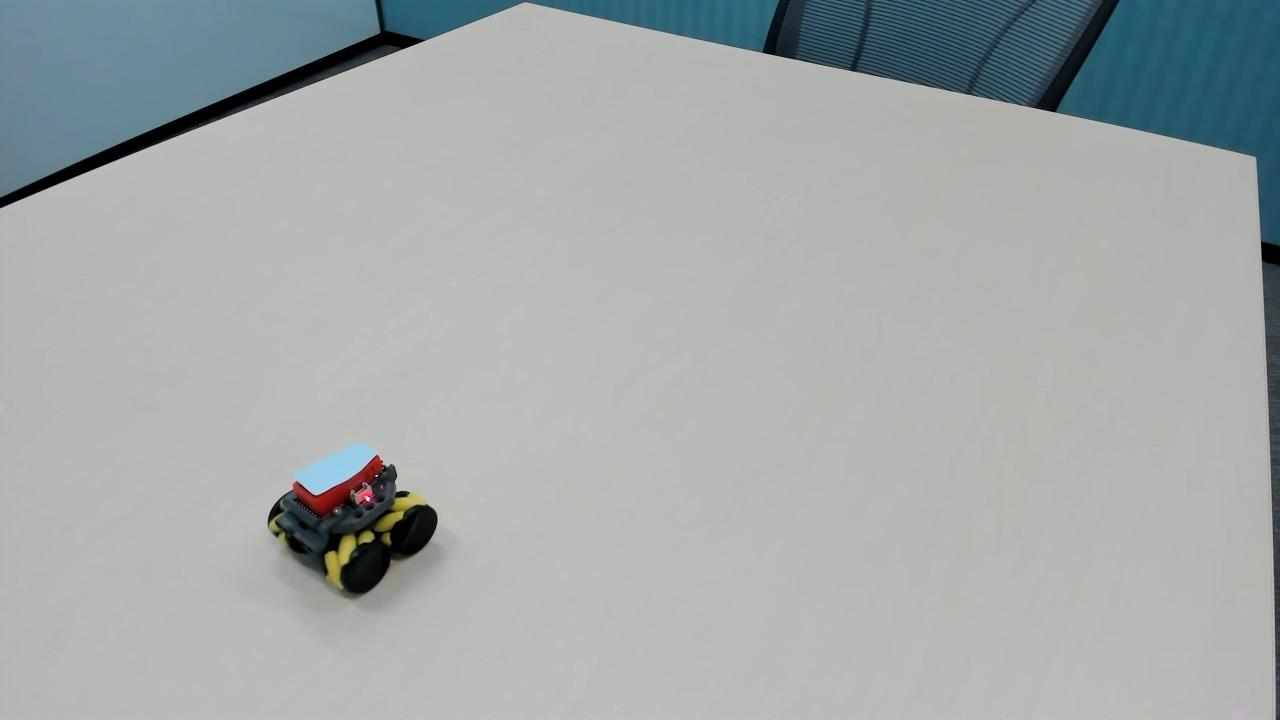B-Robot: (256, 421, 443, 613)
